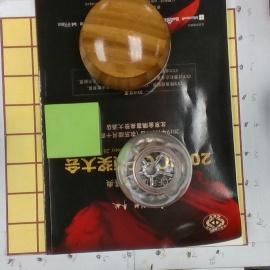bottle: (116, 134, 194, 205)
chess: (79, 1, 171, 88)
